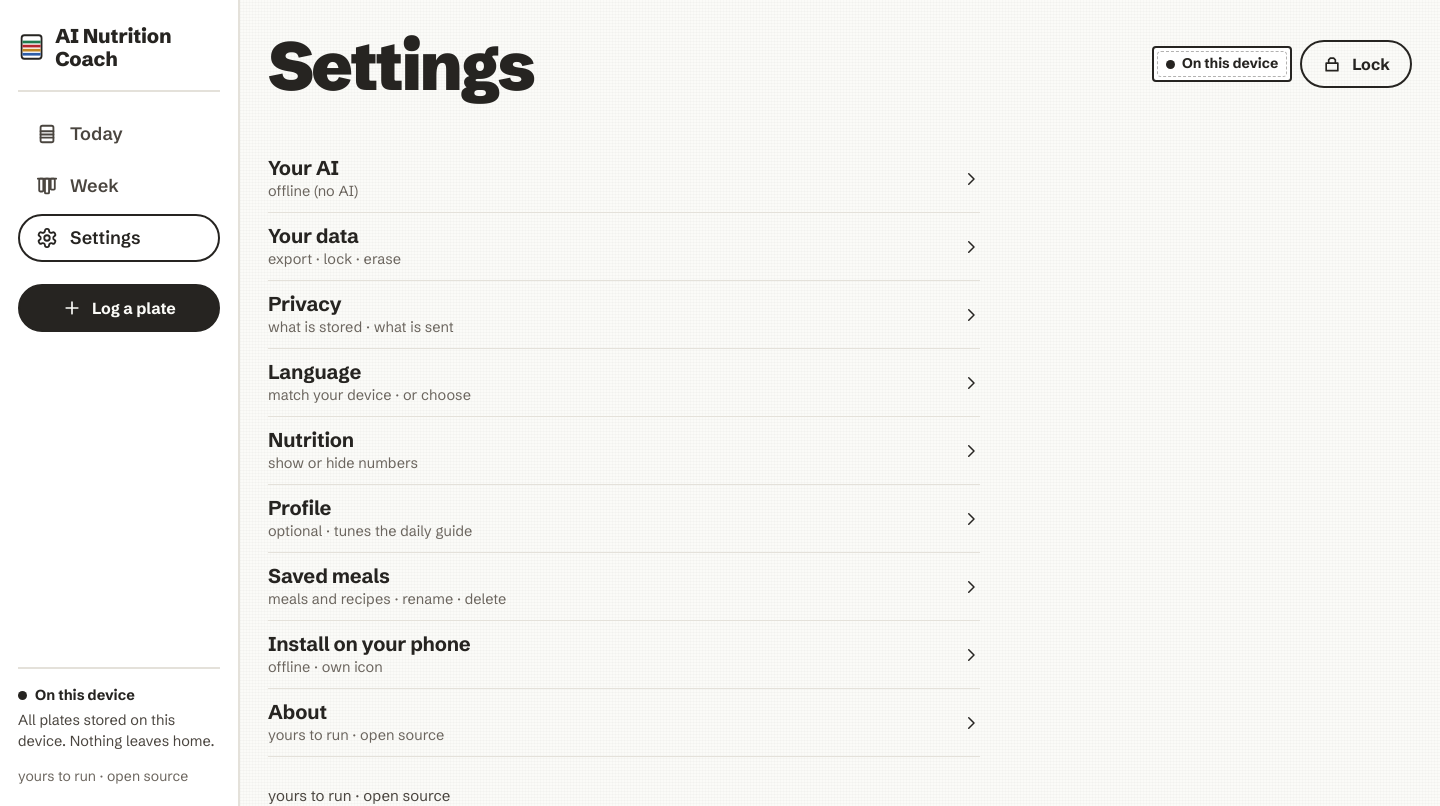
PrivacyScreen: unlocked › is reachable from Settings and inside the shell, with a way back to Settings
The width and height of the screenshot is (1440, 806).
Click the button "Privacy what is stored · what is sent" at (305, 303), box [268, 281, 980, 349]
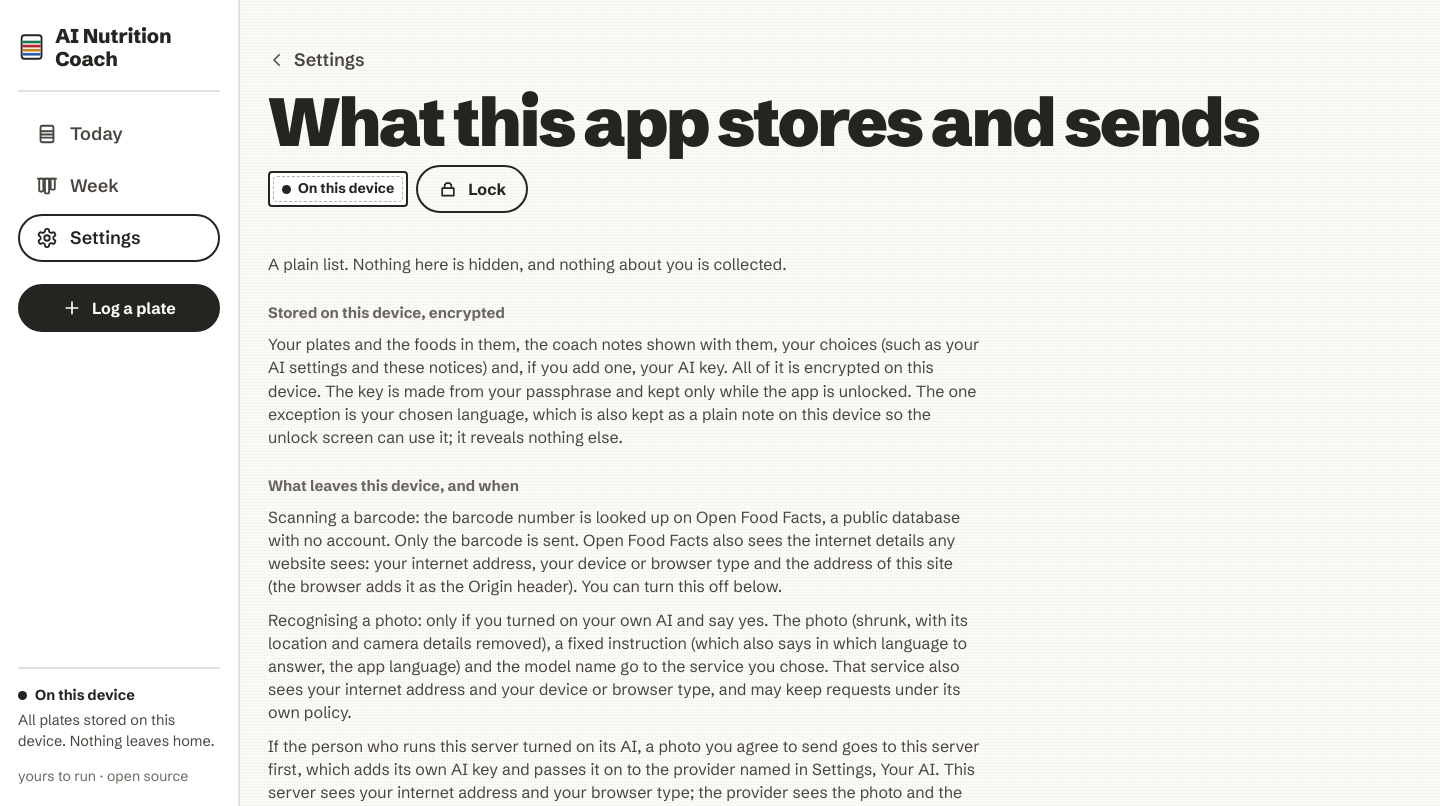
Result: the heading "What this app stores and sends" is shown at [268, 92, 1258, 153]
